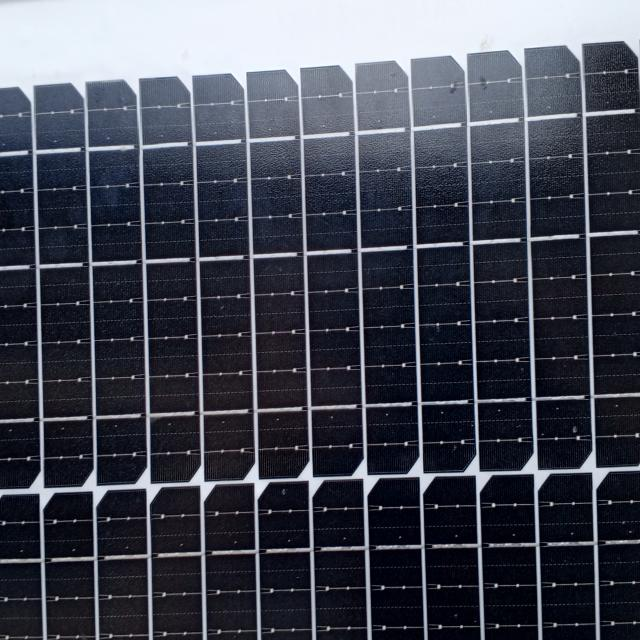Clean: (2, 13, 634, 640)
